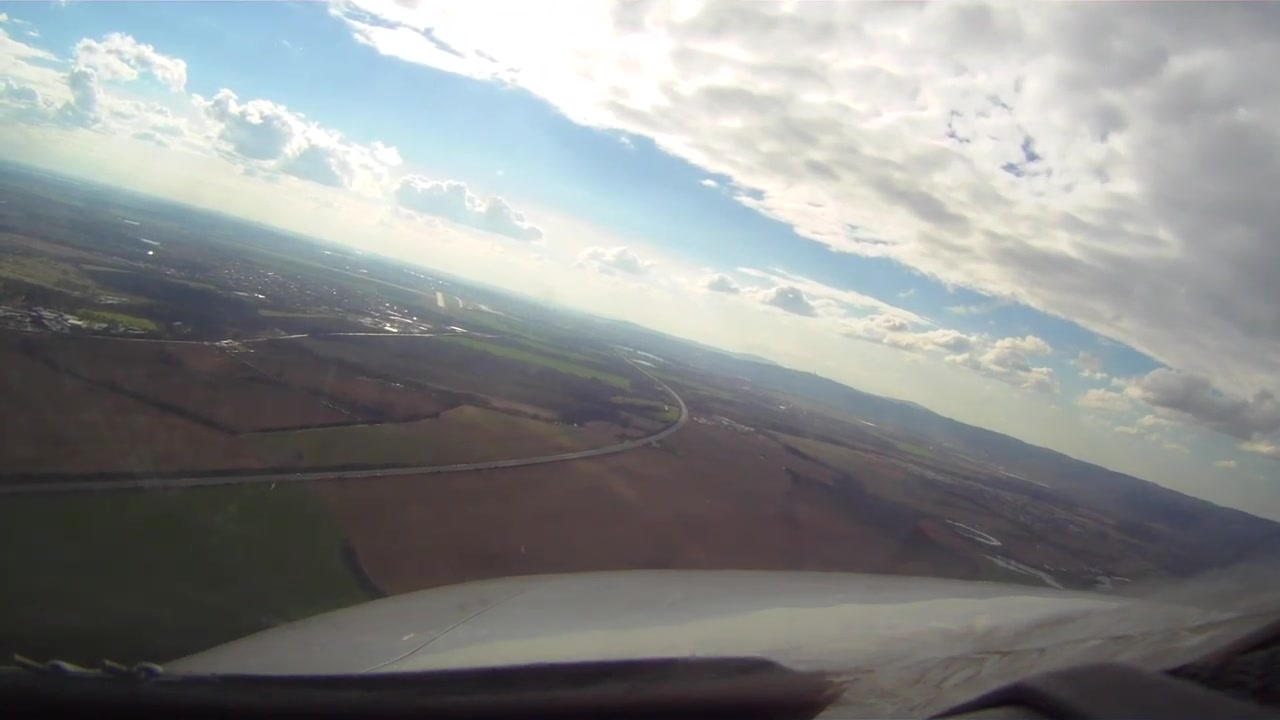runway: (433, 291, 447, 309)
